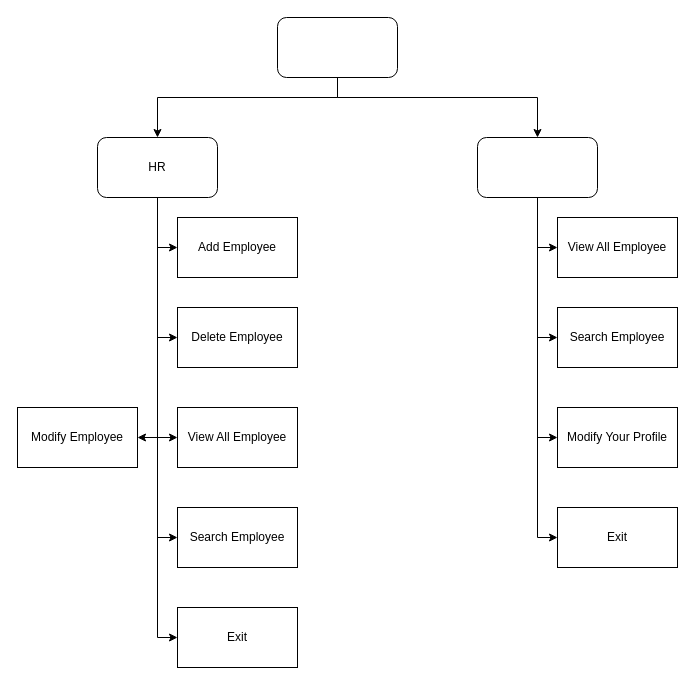
Some shapes in this 695 by 685 pixel diagram are drawn without their labels. Each missing label, with the centre of its shape:
Employee: (537,167)
Login: (337,47)
